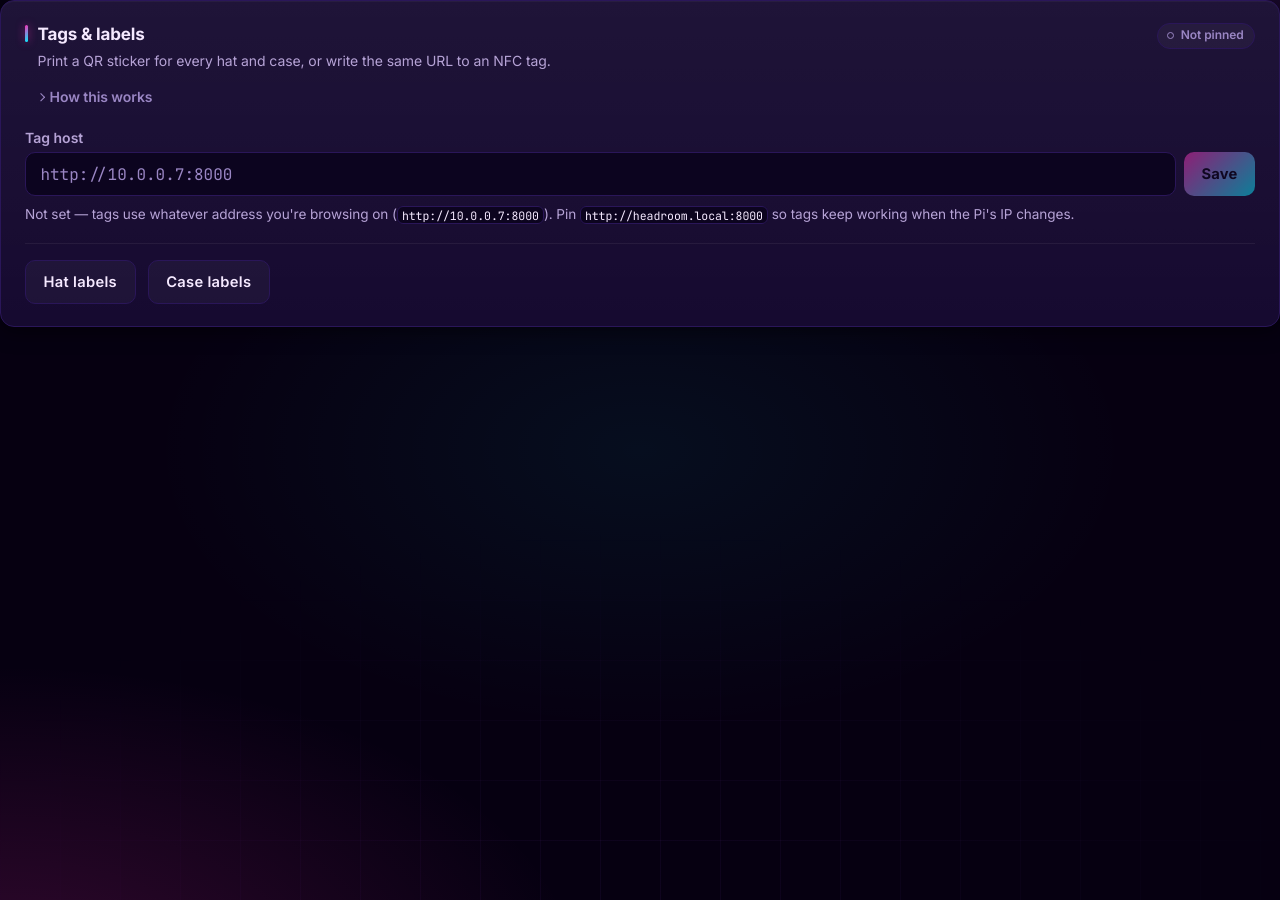
Test: TagsCard › reports a rejected host in place and keeps what was typed
expect the text "Not pinned" is shown: met, box [1158,23,1255,49]
Type "headroom.local" into the field labelled "Tag host" at (600, 174), box [25,152,1176,196]
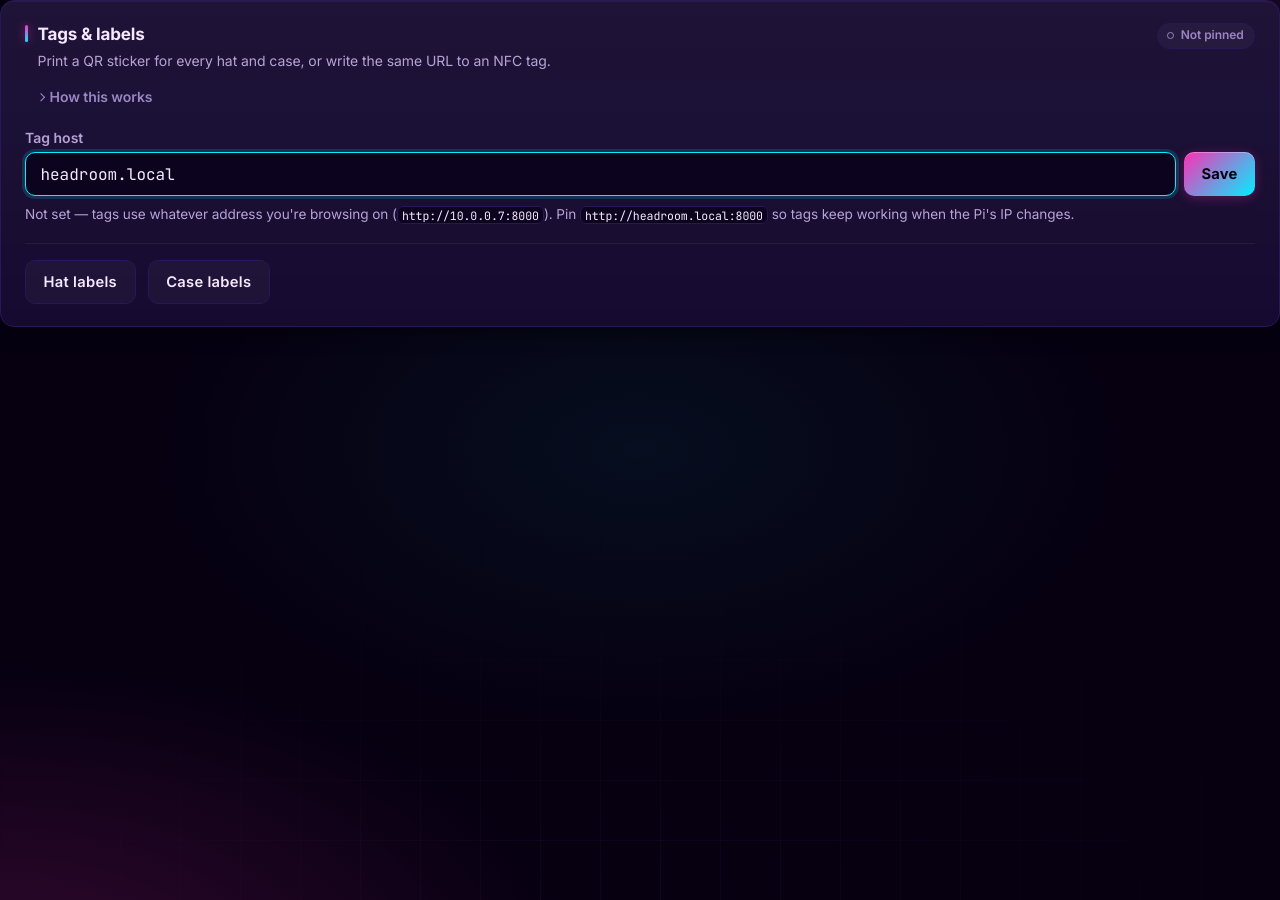
Click the button "Save" at (1220, 174), box [1184,152,1255,196]
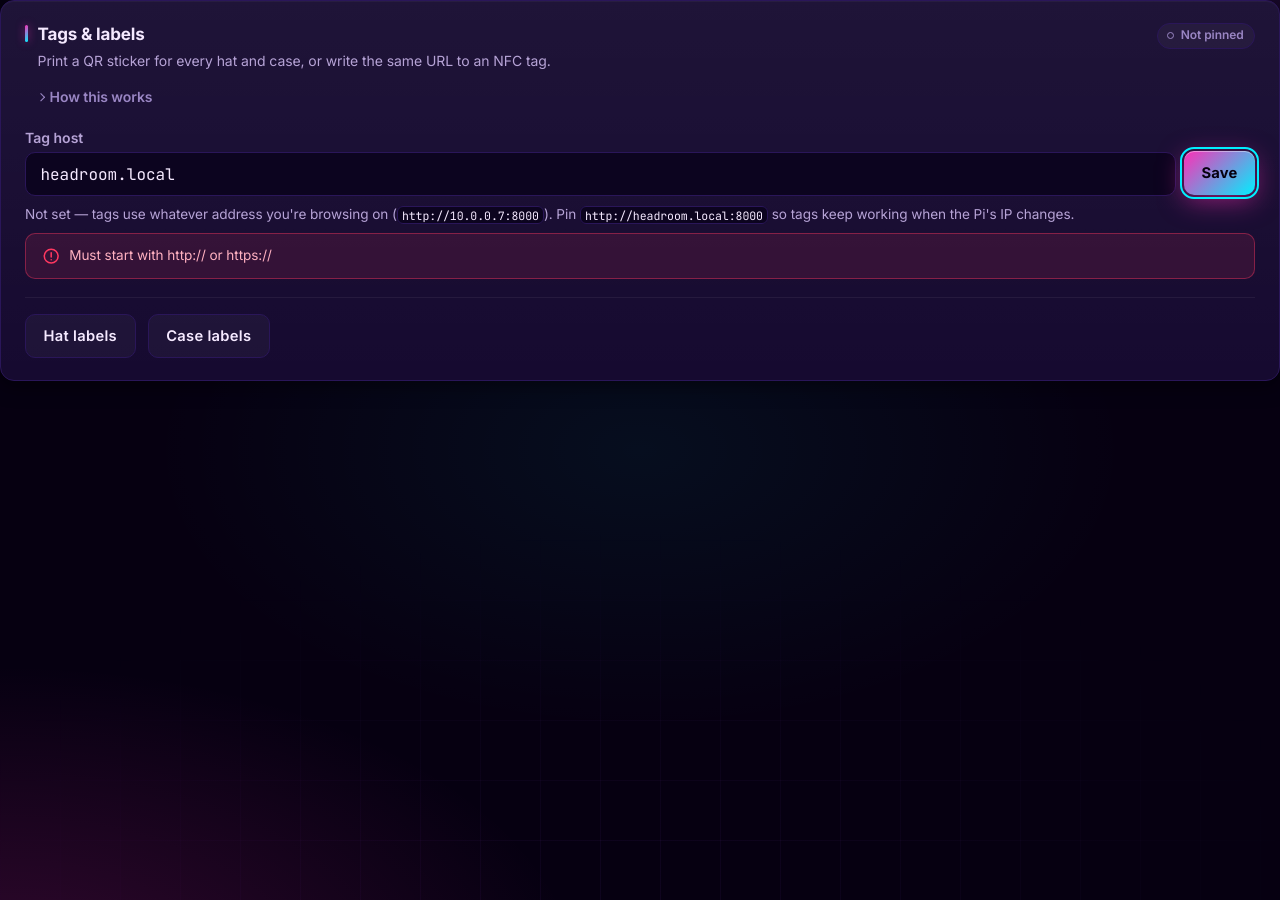
expect the message reads "Must start with http:// or https://": met, box [69,247,272,263]
